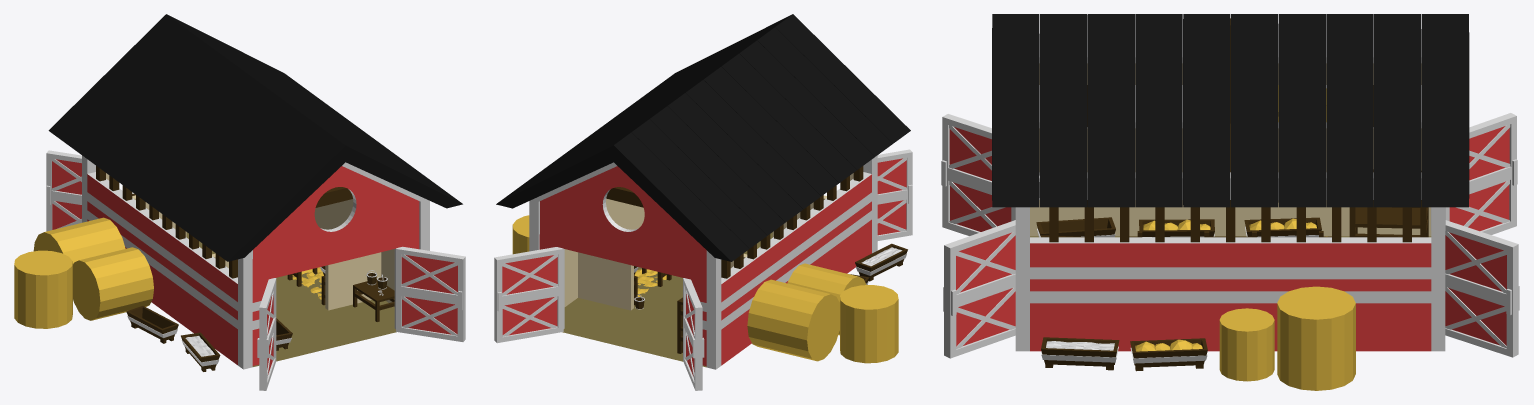
Rendered from barn_full.fbx.
3 views of the same model, side by side, from view 1: azimuth 30°, elevation 25°; view 2: azimuth 150°, elevation 25°; view 3: azimuth 270°, elevation 25° (orthographic). The views are drawn at different scales.
Parts seen in each view (by area): view 1: ambar, hay_big, wall, roof, gate.003, roof.009, roof.003, roof.002, roof.006, roof.008, roof.005, roof.001 (+12 smaller); view 2: ambar, hay_big, wall.011, roof.009, gate, roof.002, roof.005, roof.001, roof.004, roof.008, roof.007, roof.003 (+11 smaller); view 3: ambar, roof.009, roof.003, roof.007, roof, roof.002, roof.004, roof.006, roof.008, roof.001, roof.005, gate (+14 smaller).
Part boxes in pixels (<box>): ambar: <box>82,170,429,369</box>; hay_big: <box>14,217,153,328</box>; wall: <box>252,166,419,365</box>; roof: <box>210,132,462,261</box>; gate.003: <box>396,246,465,341</box>; roof.009: <box>48,14,301,143</box>; roof.003: <box>156,93,408,222</box>; roof.002: <box>174,106,426,235</box>; roof.006: <box>102,53,355,182</box>; roof.008: <box>66,27,318,156</box>; roof.005: <box>120,66,373,195</box>; roof.001: <box>192,119,444,248</box>; ambar: <box>529,170,877,369</box>; hay_big: <box>747,263,898,363</box>; wall.011: <box>539,166,706,366</box>; roof.009: <box>496,132,748,261</box>; gate: <box>494,247,563,343</box>; roof.002: <box>622,40,874,169</box>; roof.005: <box>568,80,820,209</box>; roof.001: <box>640,27,892,156</box>; roof.004: <box>587,66,838,196</box>; roof.008: <box>514,119,766,248</box>; roof.007: <box>532,106,785,235</box>; roof.003: <box>604,53,856,182</box>; ambar: <box>1015,122,1445,351</box>; roof.009: <box>1421,14,1469,207</box>; roof.003: <box>1135,14,1182,207</box>; roof.007: <box>1326,14,1373,207</box>; roof: <box>992,14,1039,207</box>; roof.002: <box>1087,14,1134,207</box>; roof.004: <box>1183,14,1230,207</box>; roof.006: <box>1278,14,1325,207</box>; roof.008: <box>1374,14,1421,207</box>; roof.001: <box>1040,14,1087,207</box>; roof.005: <box>1231,14,1278,207</box>; gate: <box>1445,220,1519,357</box>.
Bounding box in the file's own units: 2376 × 1295 × 2422.
